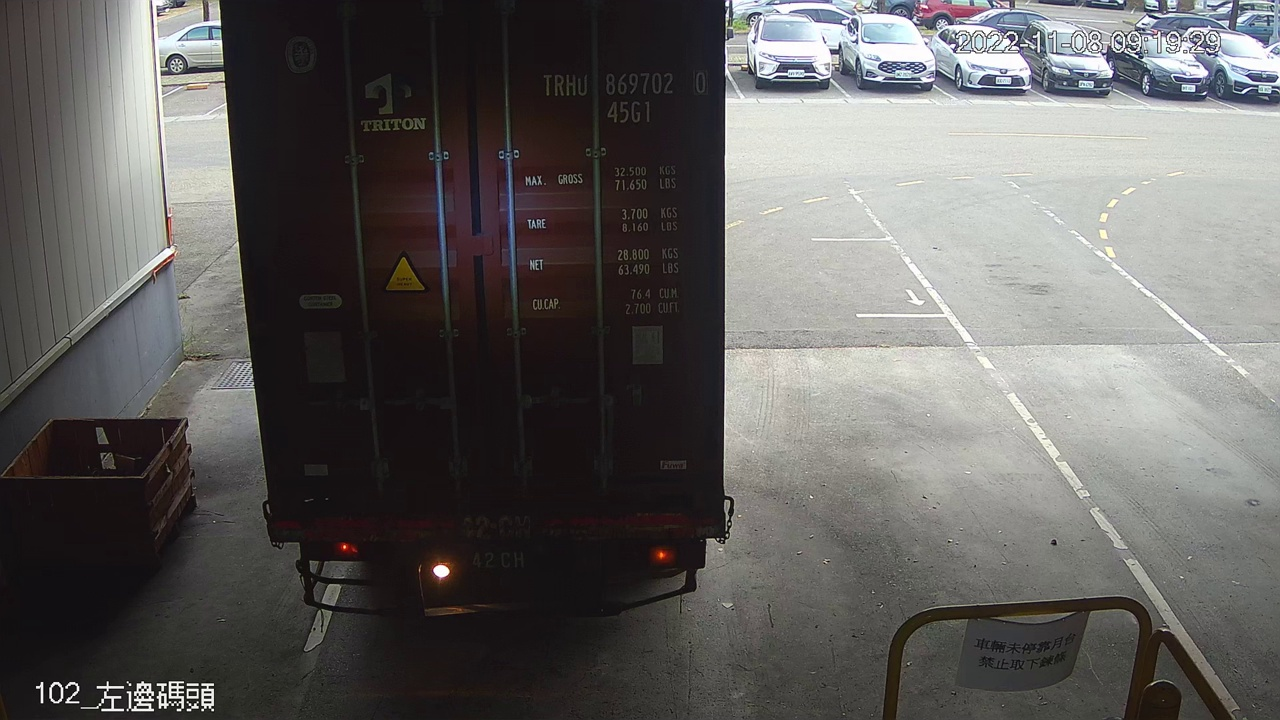container: (531, 62, 715, 130)
